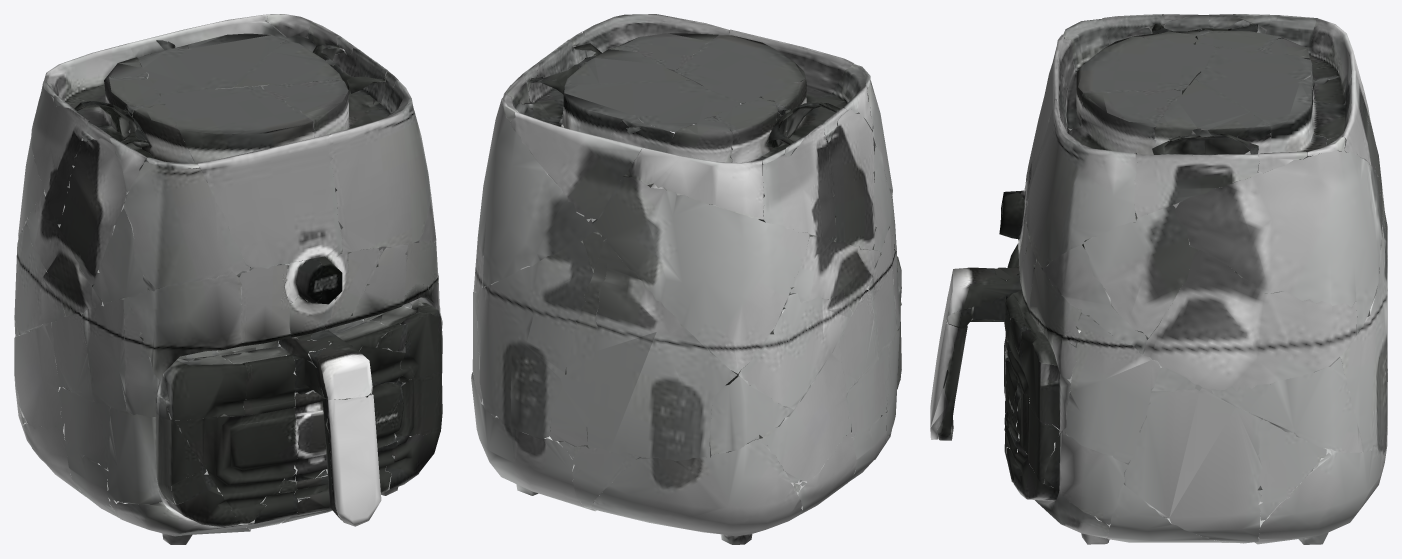
File: fryer.glb
The picture shows the model from 3 angles, left to right: view 1: azimuth 30°, elevation 25°; view 2: azimuth 150°, elevation 25°; view 3: azimuth 270°, elevation 25°; orthographic projection. The views are drawn at different scales.
Visible parts, largest first — view 1: Mesh_0; view 2: Mesh_0; view 3: Mesh_0.
Part boxes in pixels (x1,y1,x2,y2): Mesh_0: [14, 14, 442, 544]; Mesh_0: [471, 14, 901, 544]; Mesh_0: [930, 14, 1387, 544].
Size of the model in its own units: 1.65 by 1.88 by 1.9.
1 material, 1 textured.
